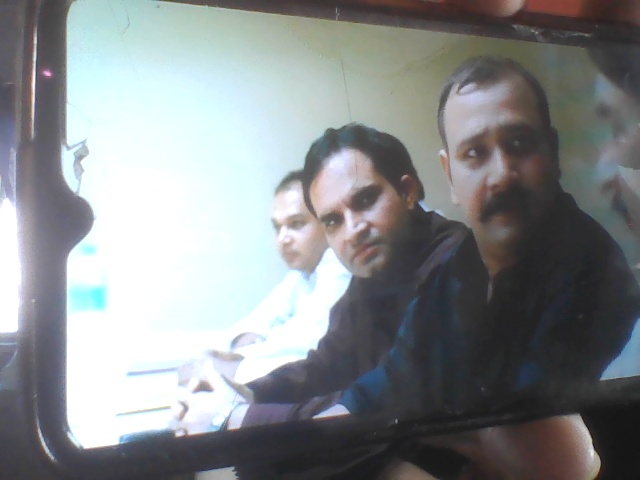fake: (433, 51, 571, 246), (298, 121, 418, 291)
